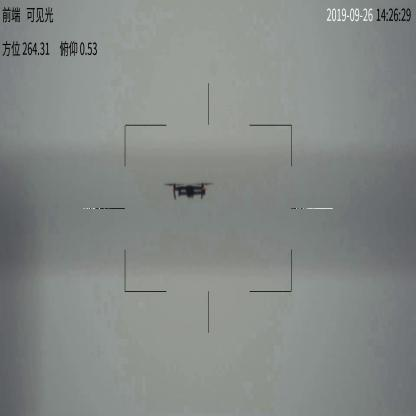uav: (164, 179, 215, 202)
